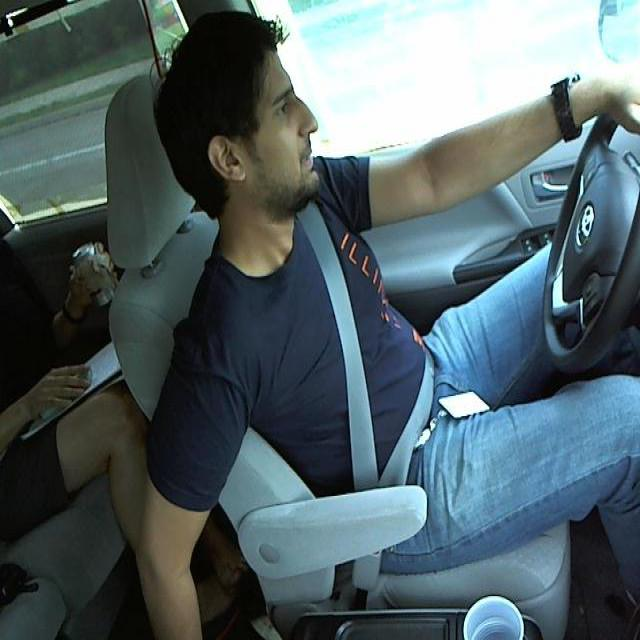seatbelt: (304, 217, 443, 491)
